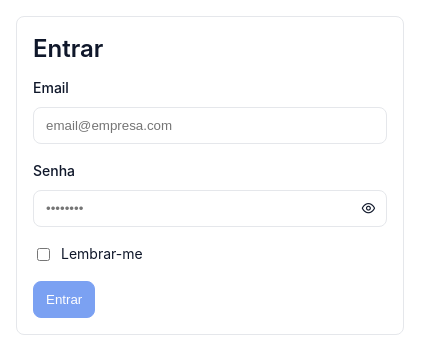
Test: Form Validation (client-only) › Login disables submit until valid email and password
This screenshot has width=421, height=352.
Check: the submit button is disabled, box [33,281,95,318]
In the field with id "email": point(210, 126) [33,107,387,144], type "user@company.com"
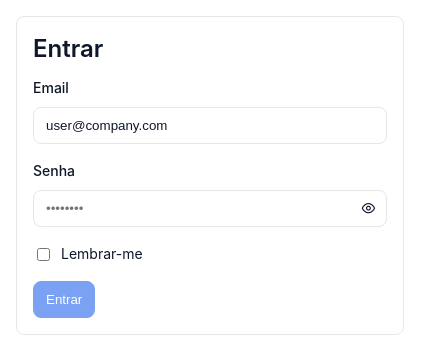
Check: the submit button is disabled, box [33,281,95,318]
In the password field labelled "Senha": point(210, 208) [33,190,387,227], type "secret"
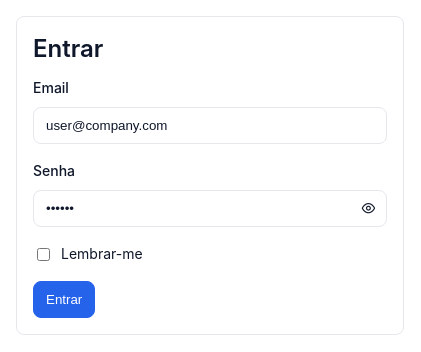
Check: the submit button is enabled, box [33,281,95,318]
